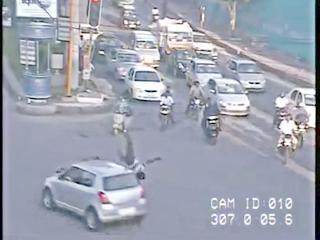Car: (44, 157, 147, 228), (202, 78, 251, 116), (124, 66, 168, 101), (280, 87, 315, 129), (225, 58, 266, 93), (157, 20, 195, 57), (126, 30, 160, 69), (185, 59, 221, 89), (109, 49, 142, 80), (93, 33, 125, 63), (166, 48, 194, 77), (192, 32, 217, 59), (120, 8, 141, 29), (117, 0, 135, 9)
Major Accident: (41, 137, 160, 229)
Motor: (85, 142, 159, 180), (110, 96, 135, 135), (56, 157, 102, 177), (202, 97, 221, 140), (277, 114, 298, 151), (157, 87, 175, 130), (187, 81, 205, 117), (273, 91, 289, 124), (151, 7, 160, 21)
